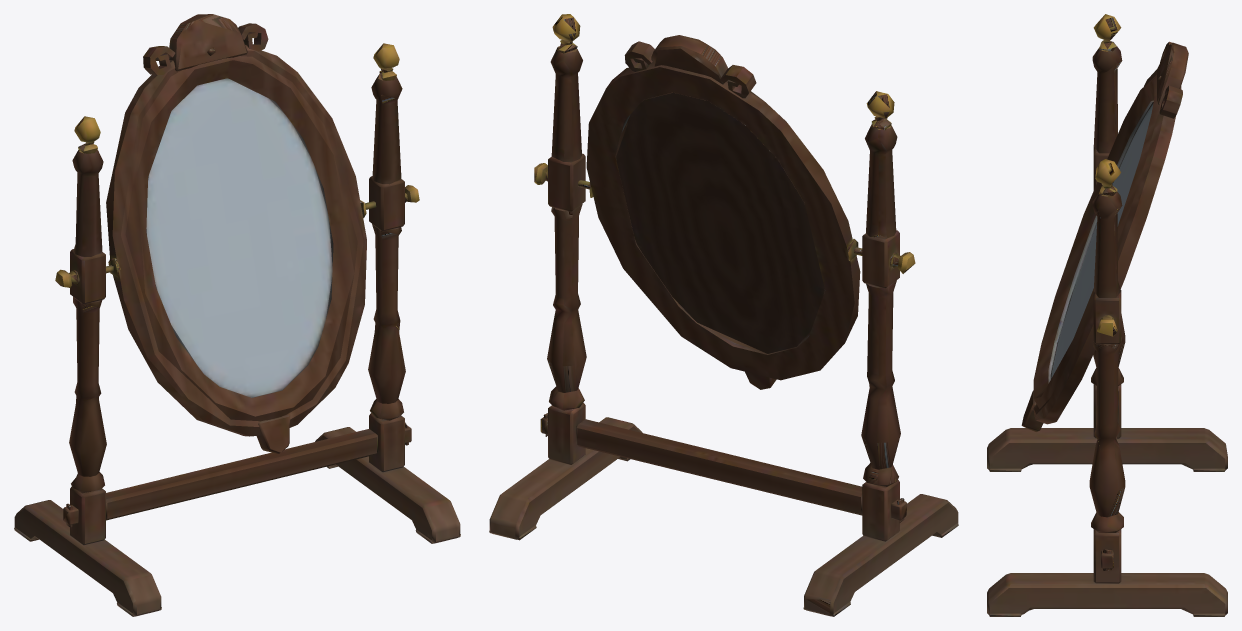
The model's file is mirror.low.glb.
3 renders of one model, left to right at view 1: azimuth 30°, elevation 25°; view 2: azimuth 150°, elevation 25°; view 3: azimuth 270°, elevation 25°, orthographic. The views are drawn at different scales.
Parts seen in each view (by area): view 1: mirror; view 2: mirror; view 3: mirror.
Part boxes in pixels (x1,y1,x2,y2): mirror: [14, 14, 460, 616]; mirror: [489, 14, 958, 616]; mirror: [987, 14, 1227, 616].
Bounding box in the file's own units: 0.8801 × 1.17 × 0.52.
Materials: 1 (1 with a texture image).
